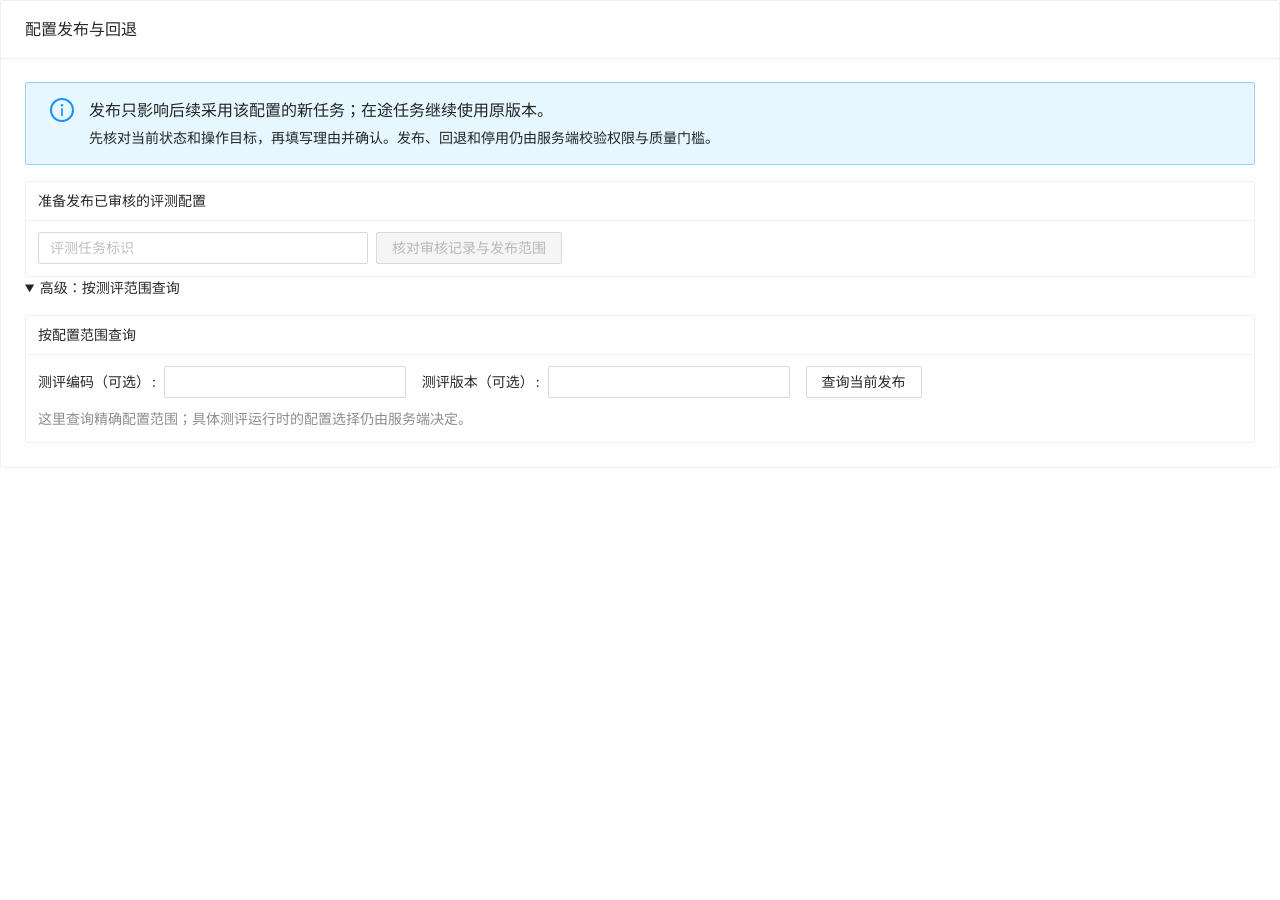
Scenario: disables only an active configuration and preserves the original version
Step 1. Click the button "查询当前发布" → (864, 382), box [806,366,922,398]
(page scrolled)
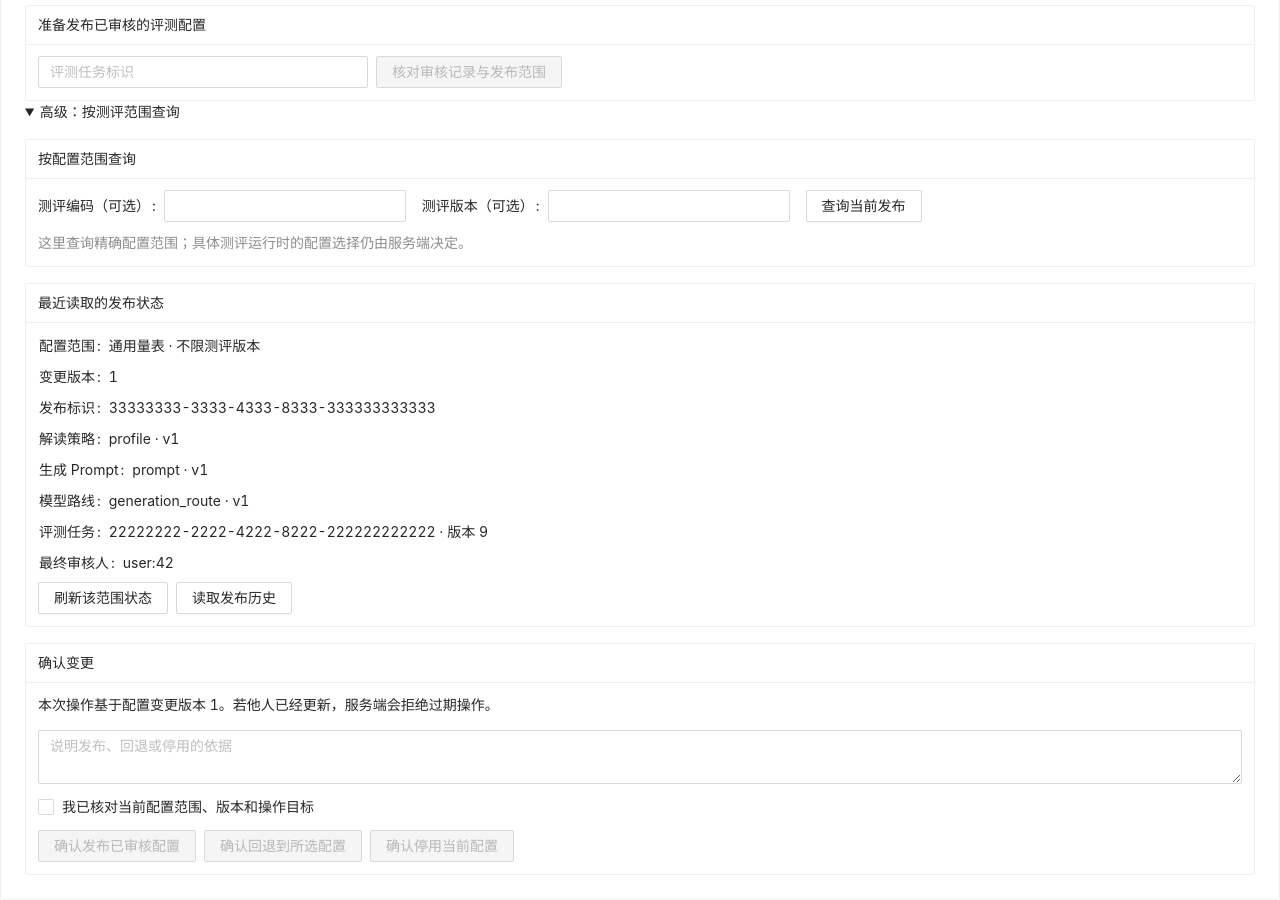
Now the text "最近读取的发布状态" is shown, box [38,294,164,311]
Step 2. Type "发布核对" into the text box named "发布操作理由" → (640, 757), box [38,730,1242,784]
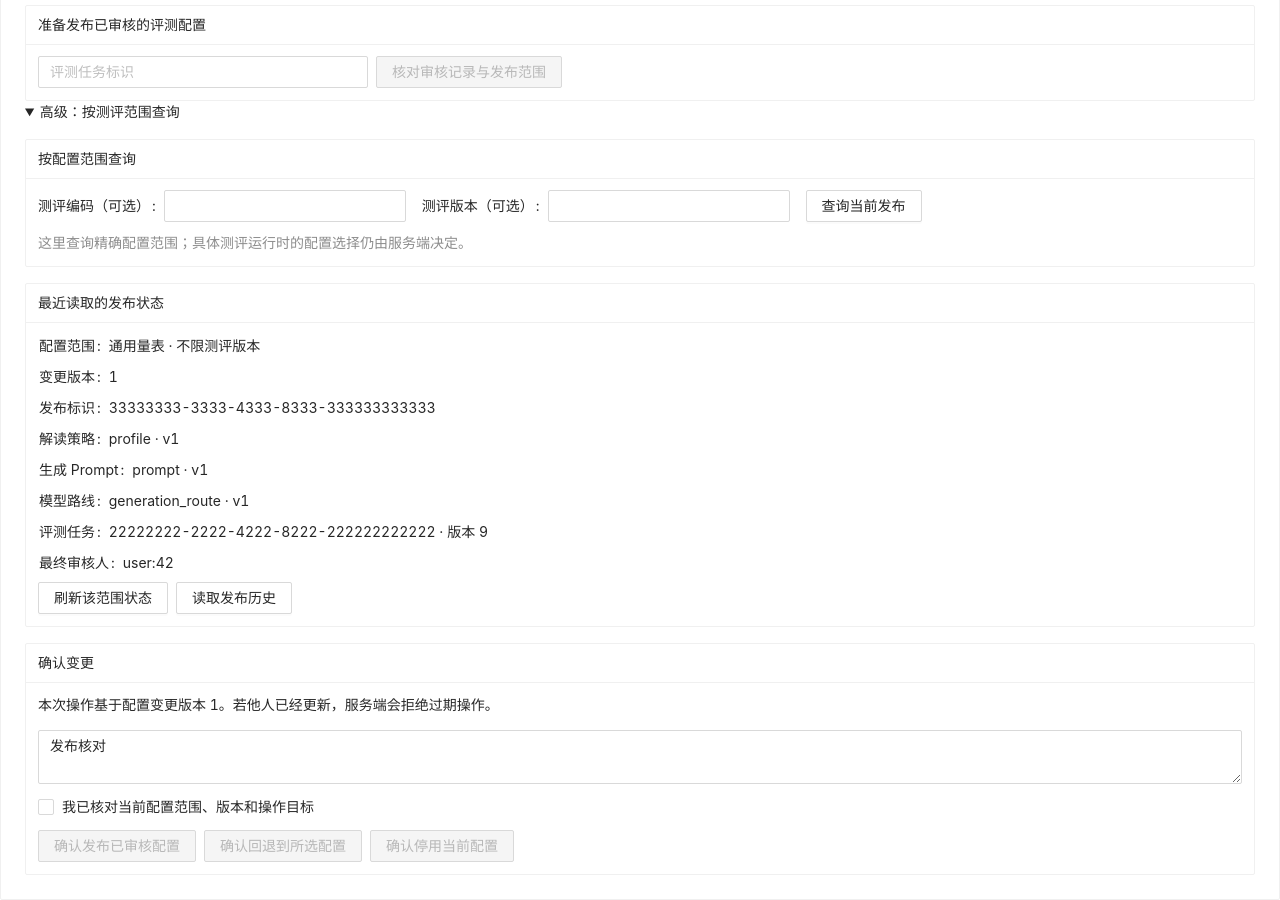
Step 3. Click the checkbox labelled "我已核对当前配置范围、版本和操作目标" → (180, 807), box [38,796,322,818]
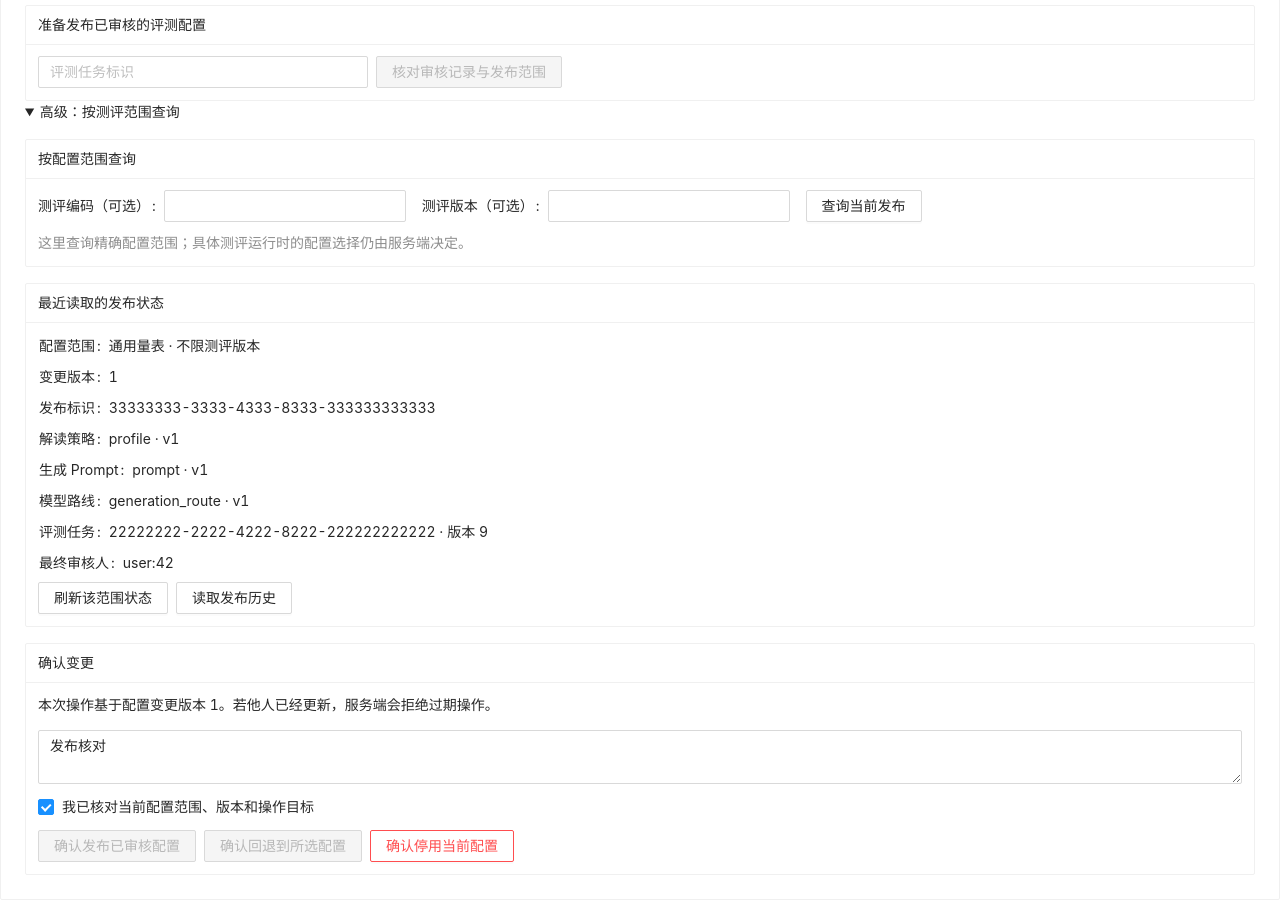
Step 4. Click the button "确认停用当前配置" → (442, 846), box [370,830,514,862]
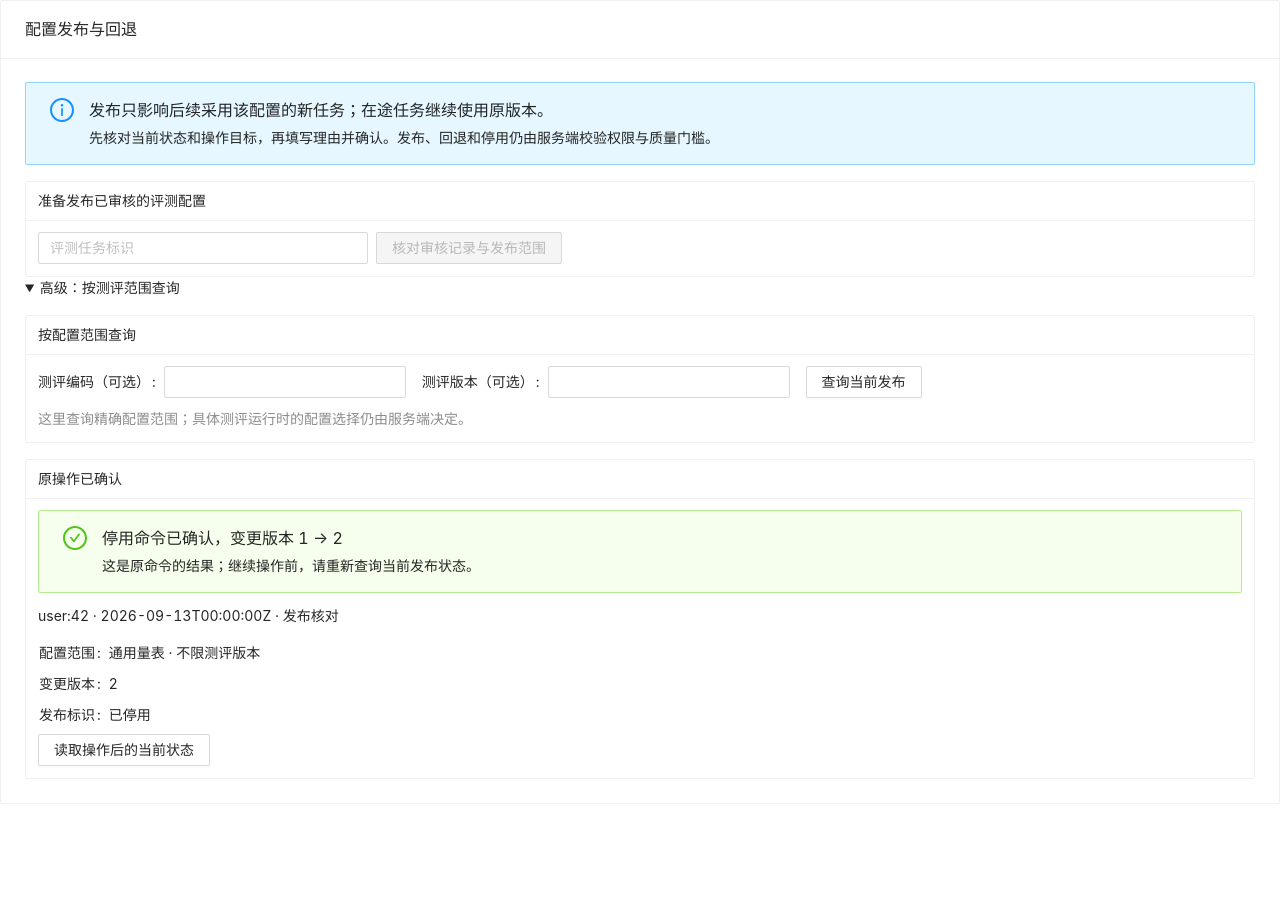
Now the text "原操作已确认" is shown, box [38,470,122,487]
